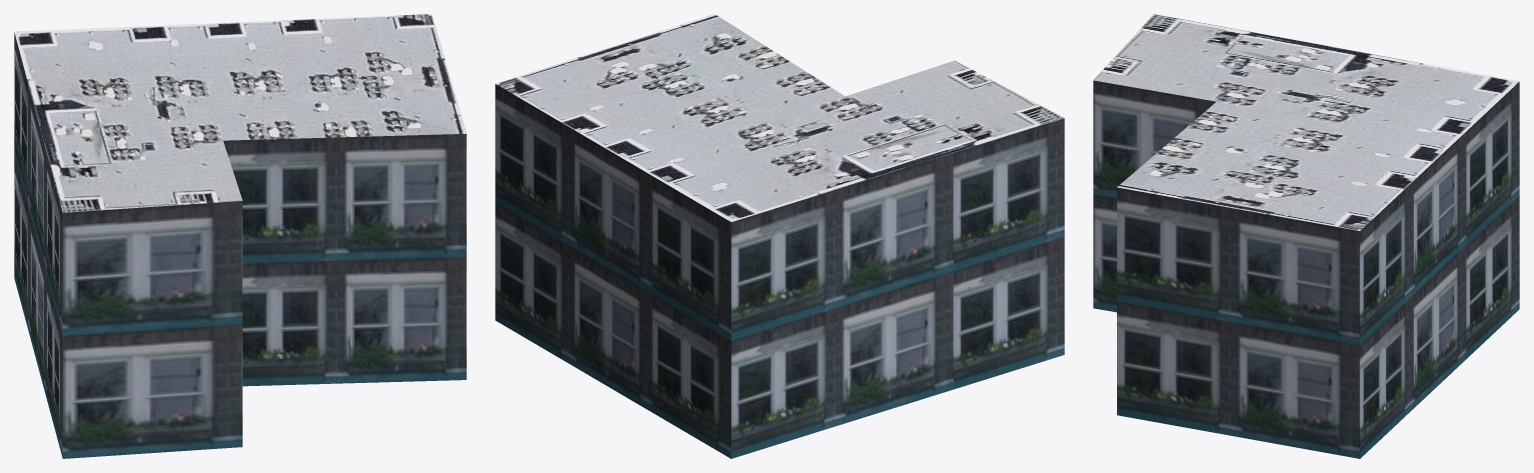
The model's file is ResTex__2256.fbx.
3 views of the same model, side by side, from view 1: azimuth 30°, elevation 25°; view 2: azimuth 150°, elevation 25°; view 3: azimuth 270°, elevation 25° (orthographic). The views are drawn at different scales.
Visible parts, largest first — view 1: CityEngineMaterial_11_m, CityEngineMaterial_m; view 2: CityEngineMaterial_11_m, CityEngineMaterial_m; view 3: CityEngineMaterial_11_m, CityEngineMaterial_m.
Part boxes in pixels (bbox=[...]): CityEngineMaterial_11_m: bbox=[14, 33, 466, 458]; CityEngineMaterial_m: bbox=[14, 14, 466, 212]; CityEngineMaterial_11_m: bbox=[495, 84, 1064, 458]; CityEngineMaterial_m: bbox=[496, 14, 1064, 222]; CityEngineMaterial_11_m: bbox=[1093, 80, 1519, 458]; CityEngineMaterial_m: bbox=[1093, 14, 1519, 230].
Size of the model in its own units: 12.26 by 6 by 10.18.
Materials: 2 (2 with a texture image).
